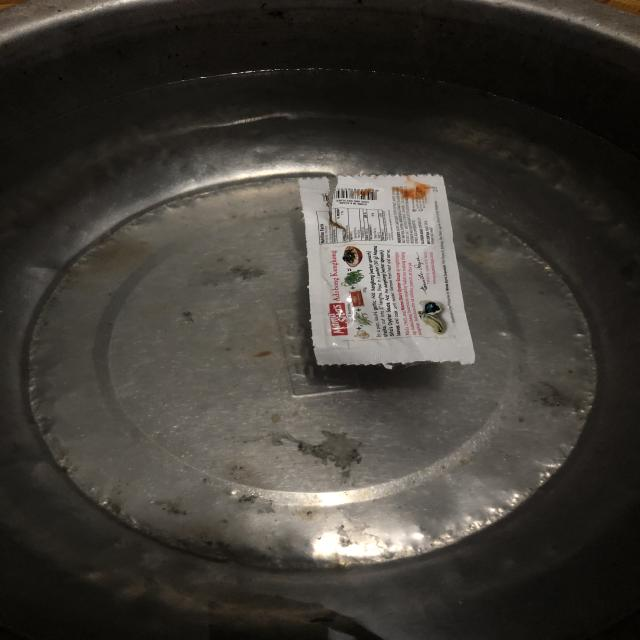Plastic Wrapper: (262, 156, 504, 387)
